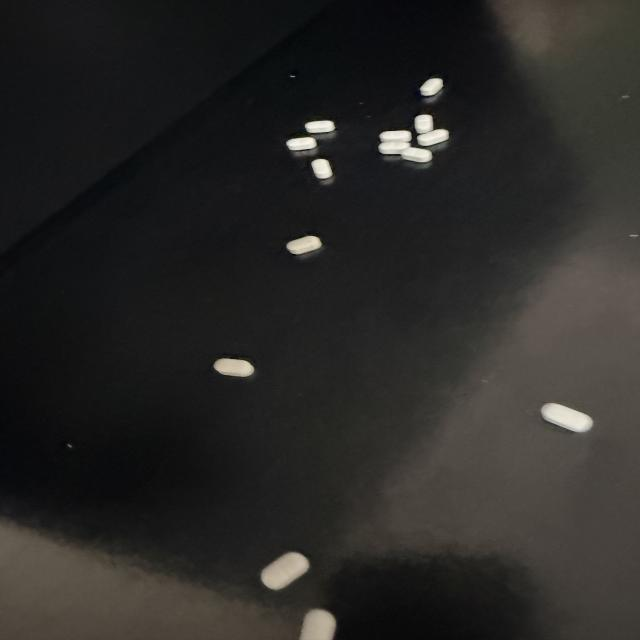pill: (261, 552, 309, 590), (541, 403, 593, 432), (300, 609, 336, 639), (214, 358, 254, 376), (286, 236, 321, 254), (417, 129, 449, 146), (401, 147, 432, 162), (311, 159, 332, 179), (420, 78, 443, 96), (305, 120, 335, 133), (286, 137, 316, 150), (378, 142, 409, 154), (380, 130, 411, 142), (415, 115, 433, 133)
